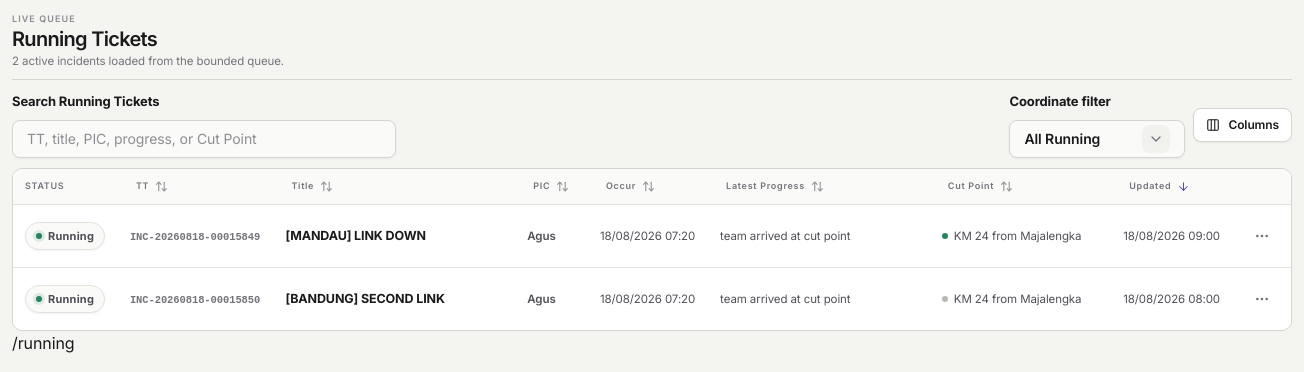
Test: RunningTicketsPage operational workspace › keeps Viewer actions read-only while preserving Review and Copy Report
Press the mouse on the button named "Actions for INC-20260818-00015849" at {"x": 1262, "y": 236}, box [1245,219,1279,253]
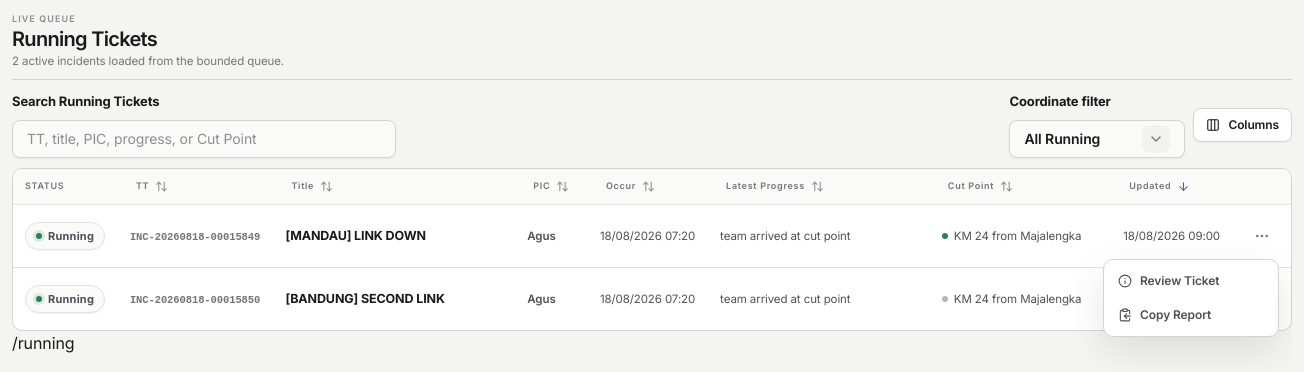
Check: the menu item "Review Ticket" is shown, box [1118,273,1220,288]
Check: the menu item "Copy Report" is shown, box [1118,307,1211,322]
